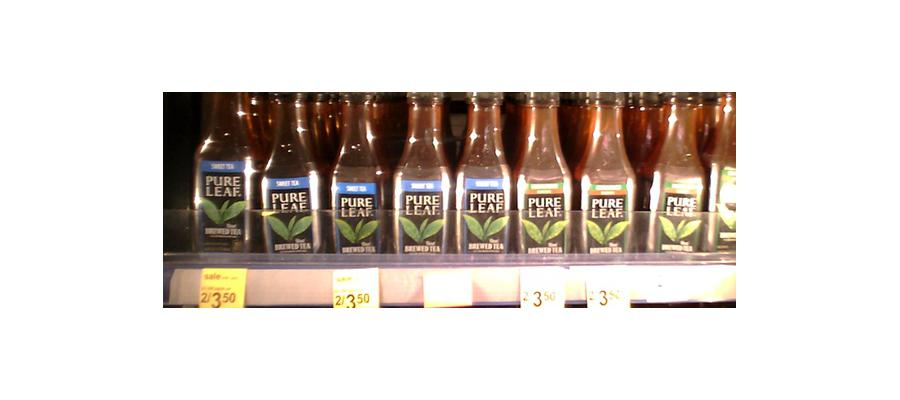bottle: (389, 85, 452, 261), (324, 89, 388, 262), (453, 89, 515, 263), (574, 91, 637, 261), (193, 87, 256, 256), (257, 87, 319, 256), (646, 88, 706, 258), (516, 89, 572, 263)
